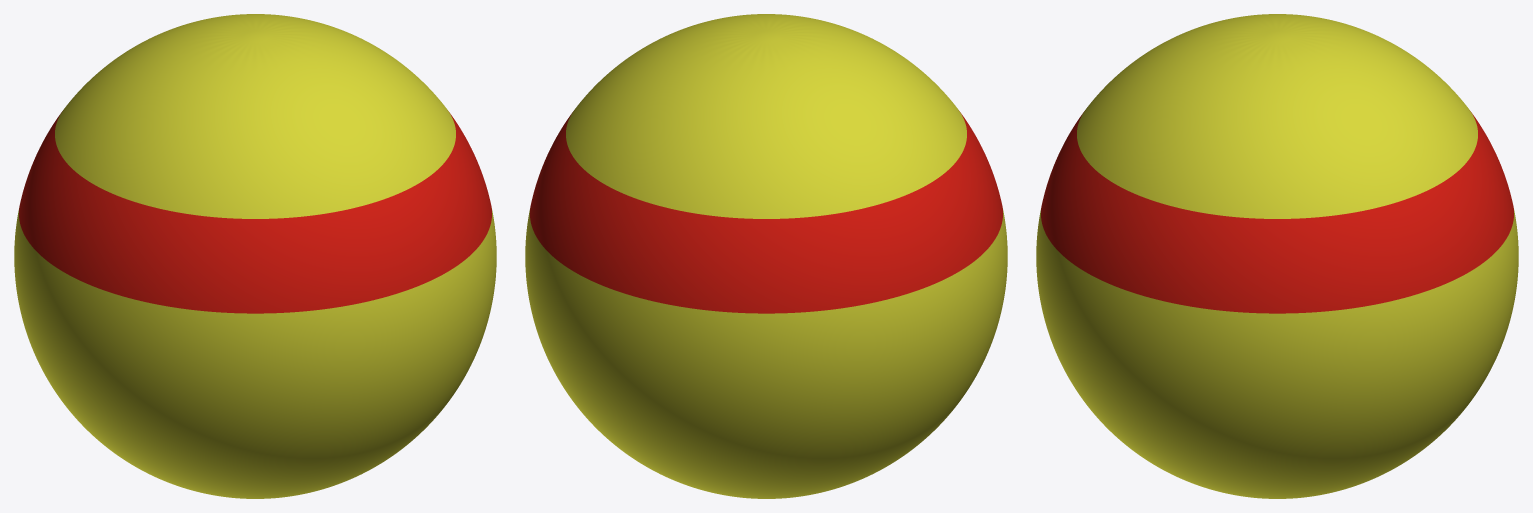
Rendered from Ball.fbx.
The picture shows the model from 3 angles, left to right: view 1: azimuth 30°, elevation 25°; view 2: azimuth 150°, elevation 25°; view 3: azimuth 270°, elevation 25°; orthographic projection.
Parts seen in each view (by area): view 1: Sphere; view 2: Sphere; view 3: Sphere.
Boxes of the visible parts, box(x1,y1,x2,y2) form: Sphere: box(14, 14, 496, 498); Sphere: box(525, 14, 1007, 498); Sphere: box(1036, 14, 1518, 498).
Bounding box in the file's own units: 197 × 200 × 197.
